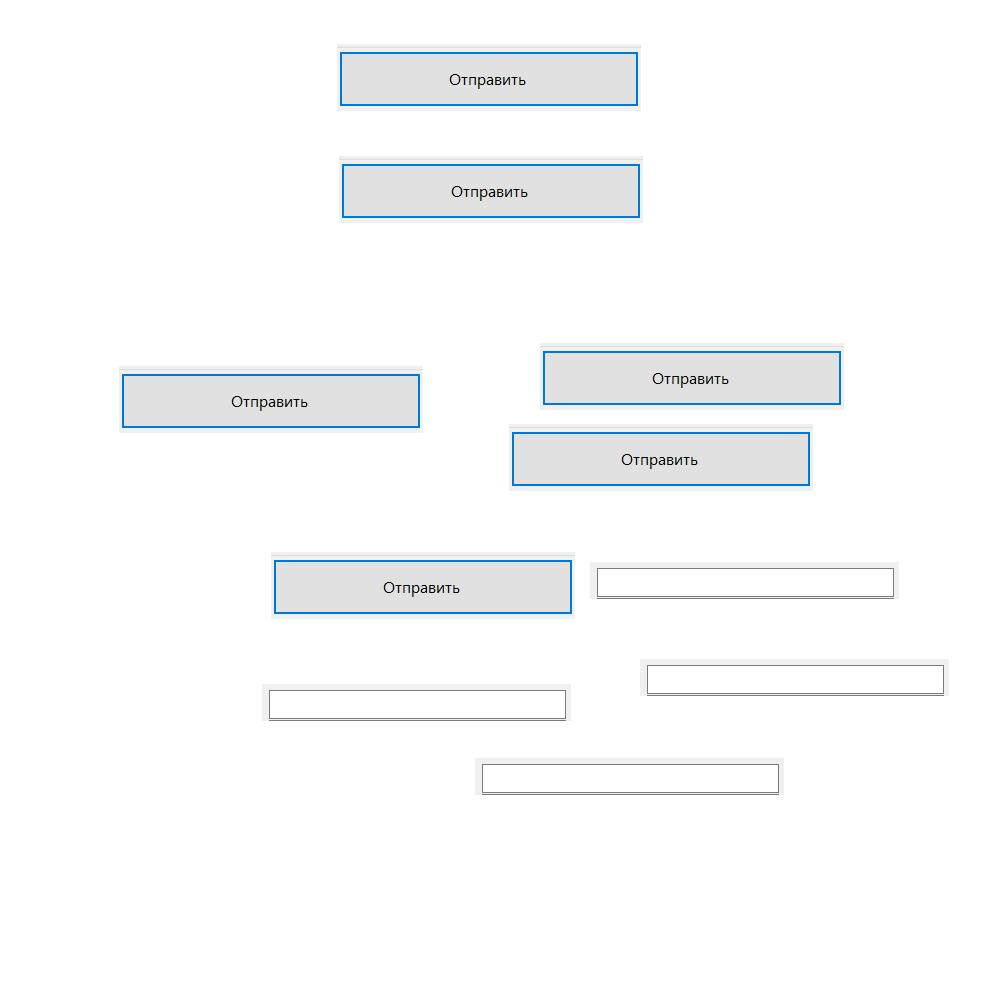Button: (271, 552, 575, 619), (339, 156, 643, 223), (119, 366, 423, 433), (337, 44, 641, 111), (540, 343, 844, 410), (509, 424, 813, 491)
EditText-: (262, 684, 571, 721), (640, 659, 949, 696), (590, 562, 899, 599), (475, 758, 784, 795)
